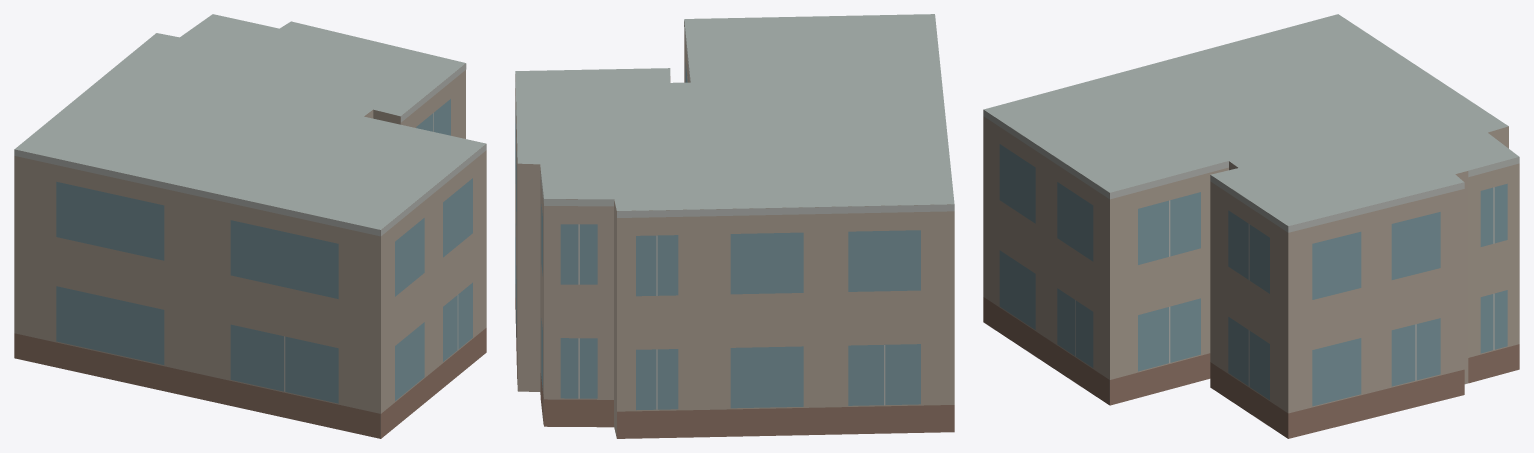
The model's file is survey-upis-32621826.glb.
The picture shows the model from 3 angles, left to right: view 1: azimuth 30°, elevation 25°; view 2: azimuth 150°, elevation 25°; view 3: azimuth 270°, elevation 25°; orthographic projection. The views are drawn at different scales.
Parts seen in each view (by area): view 1: survey-upis-32621826.tmp; view 2: survey-upis-32621826.tmp; view 3: survey-upis-32621826.tmp.
Boxes of the visible parts, left/top/right/bottom form: survey-upis-32621826.tmp: left=14, top=14, right=486, bottom=438; survey-upis-32621826.tmp: left=515, top=14, right=954, bottom=438; survey-upis-32621826.tmp: left=983, top=14, right=1519, bottom=438.
Bounding box in the file's own units: 16.92 × 7.9 × 18.06.
